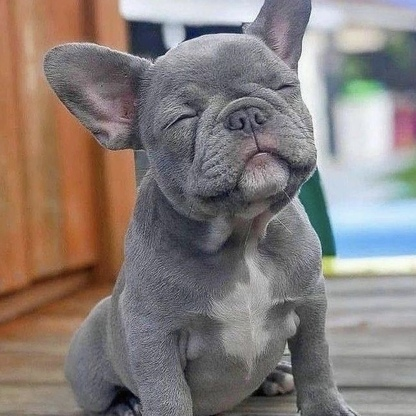bulldog: (42, 4, 359, 416)
